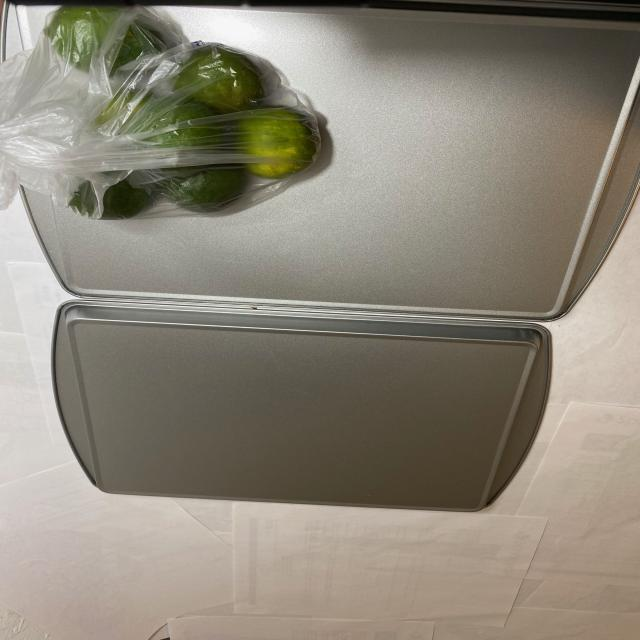lemon: (21, 4, 318, 216)
